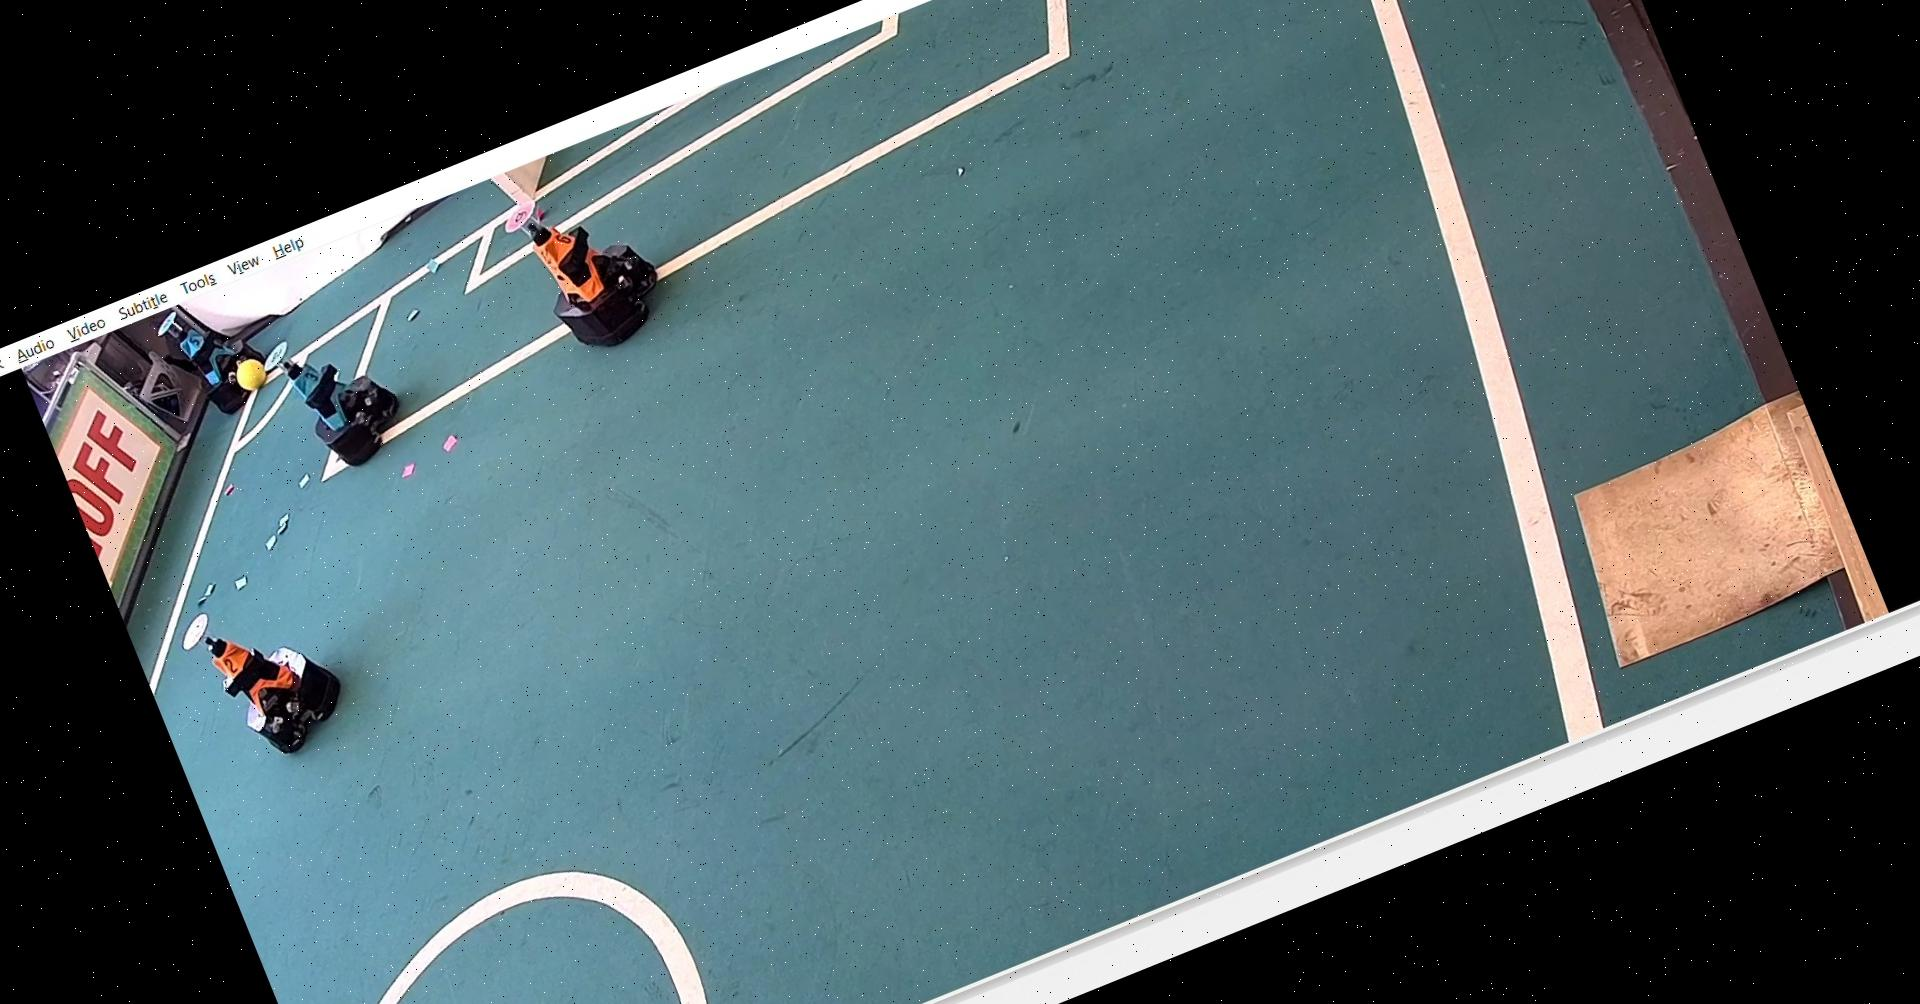Ball: (227, 350, 274, 401)
Team_Blue: (255, 306, 414, 492), (151, 287, 278, 432)
Team_Red: (171, 571, 367, 778), (495, 160, 677, 372)
